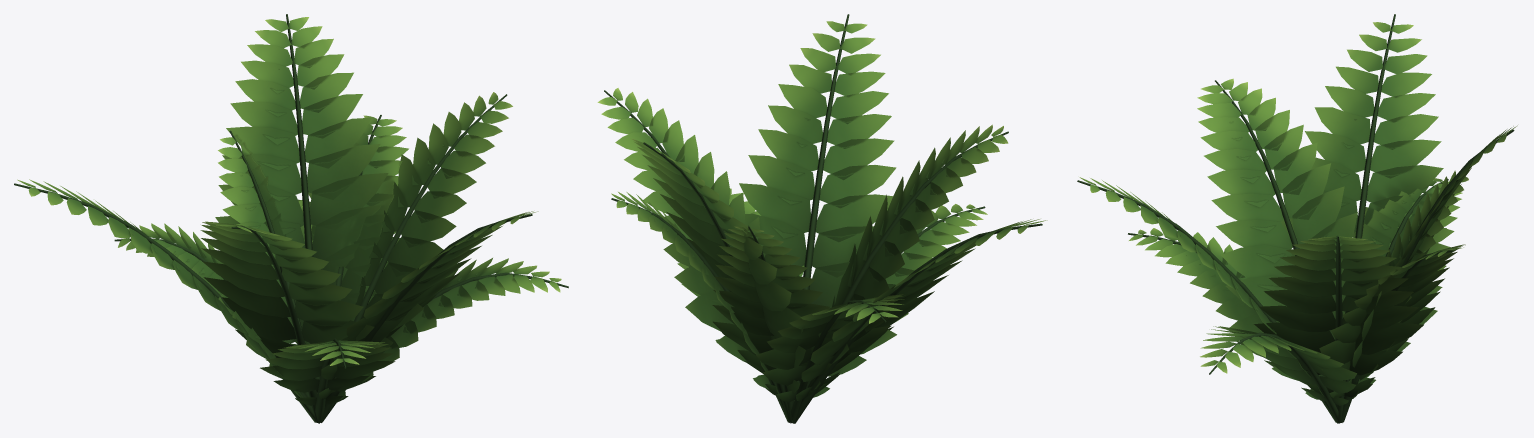
The model's file is fern_a.glb.
3 renders of one model, left to right at view 1: azimuth 30°, elevation 25°; view 2: azimuth 150°, elevation 25°; view 3: azimuth 270°, elevation 25°, orthographic. The views are drawn at different scales.
Parts seen in each view (by area): view 1: fern_a; view 2: fern_a; view 3: fern_a.
Part boxes in pixels (x1,y1,x2,y2): fern_a: [14, 14, 568, 423]; fern_a: [597, 14, 1047, 423]; fern_a: [1077, 14, 1517, 423].
Bounding box in the file's own units: 0.872 × 0.5911 × 0.7395.
1 material, 1 textured.
